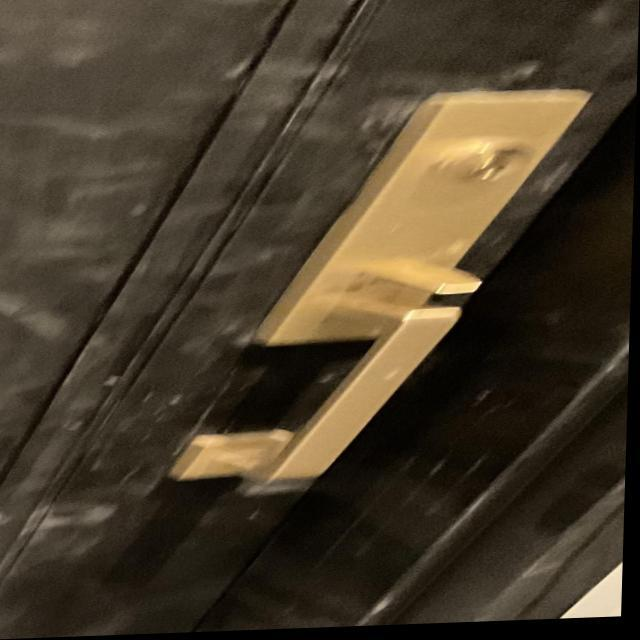door_handle: (149, 297, 506, 496)
